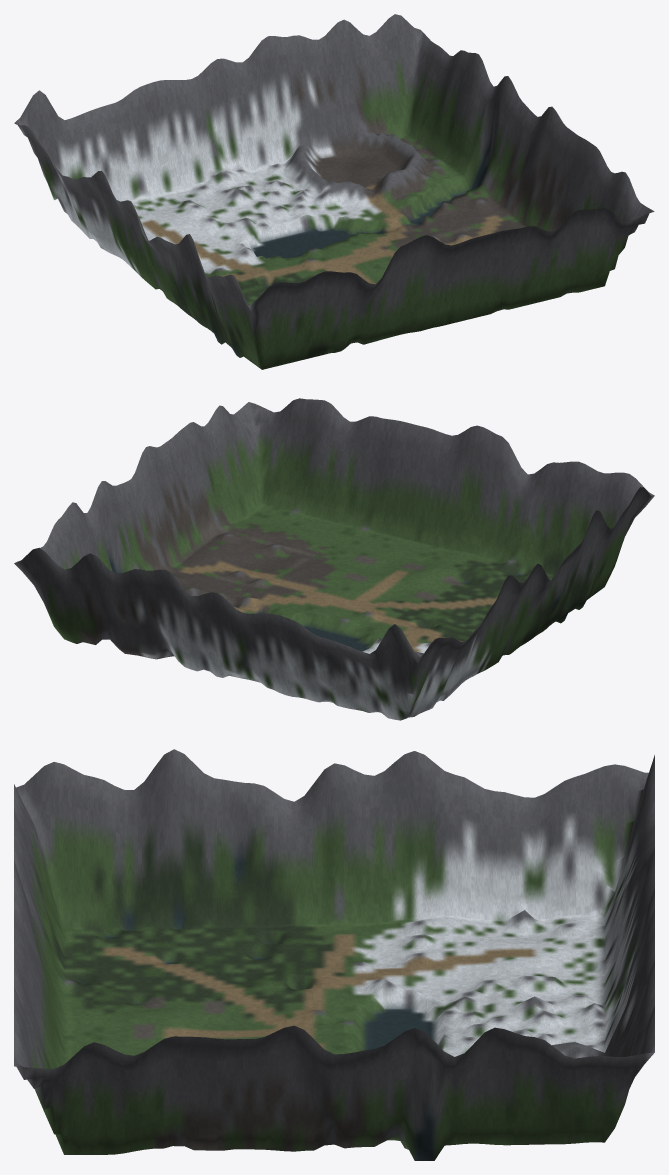
Rendered from land.glb.
3 views of the same model, one above another, from view 1: azimuth 30°, elevation 25°; view 2: azimuth 150°, elevation 25°; view 3: azimuth 270°, elevation 25° (orthographic). The views are drawn at different scales.
Parts seen in each view (by area): view 1: Land; view 2: Land; view 3: Land.
Boxes of the visible parts, x1,y1,x2,y2 form: Land: (14,14,654,369); Land: (14,398,654,720); Land: (14,749,654,1160).
Bounding box in the file's own units: 64 × 19.16 × 64.
1 material, 1 textured.
